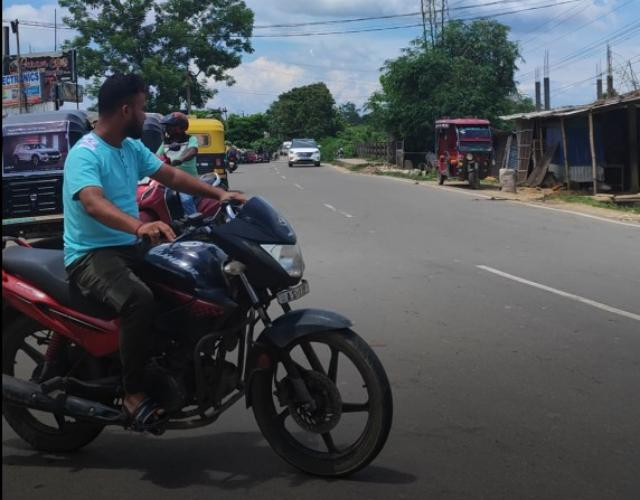licensePlate: (277, 278, 316, 309)
motorcycle: (1, 71, 397, 478)
withoutHelmet: (95, 75, 152, 141)
